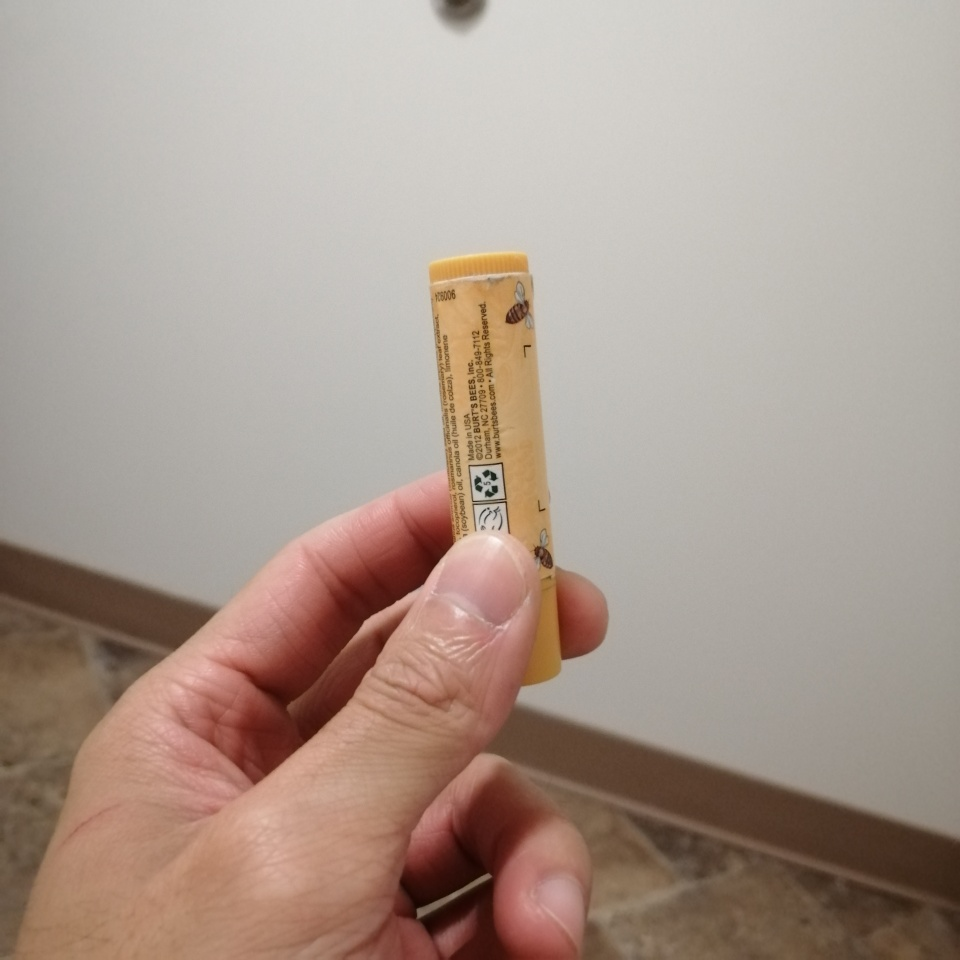chapstick: (427, 249, 564, 687)
